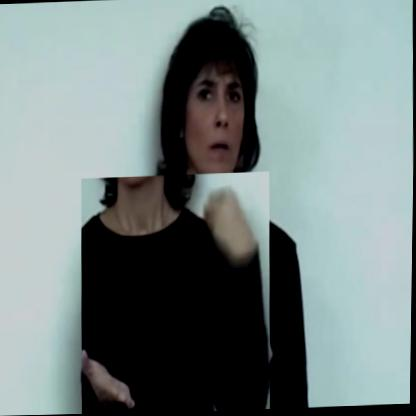Expensive: (78, 172, 274, 415)
